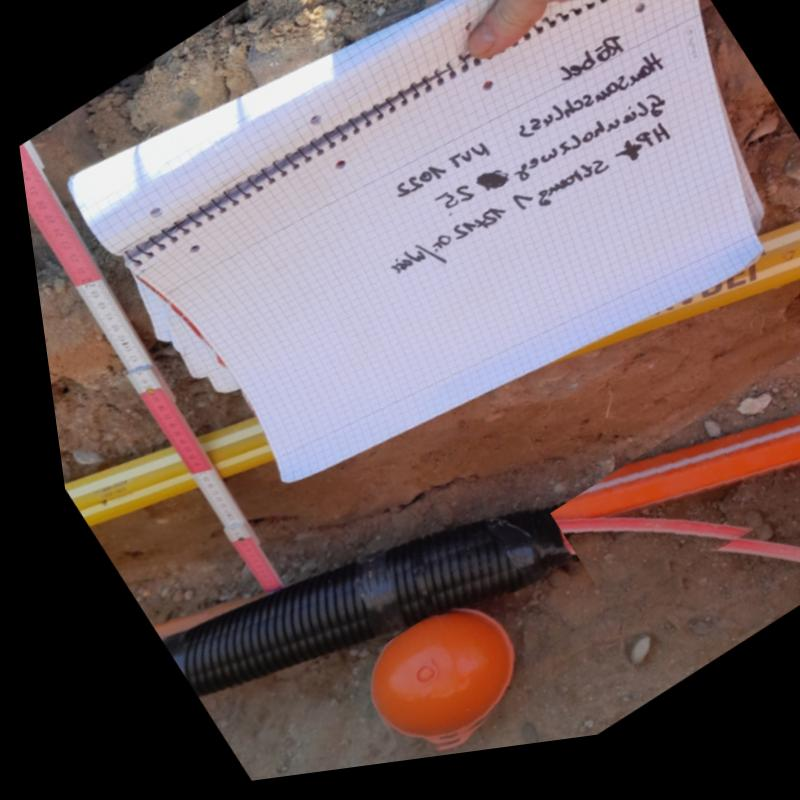Kugelmarker: (354, 623, 496, 753)
Orang-Speednetrohrchen: (541, 429, 800, 545)
